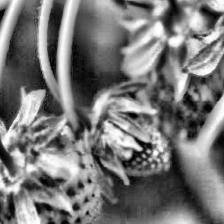Gray Mold: (74, 81, 171, 185)
